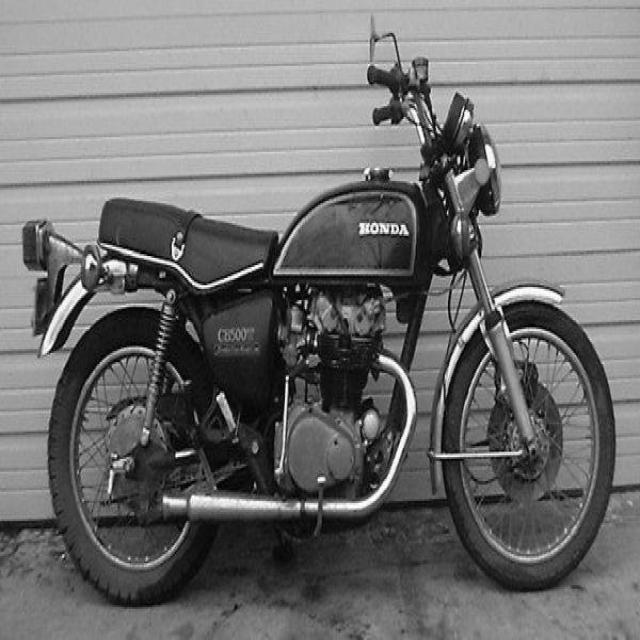Motorcycle: (22, 22, 616, 604)
